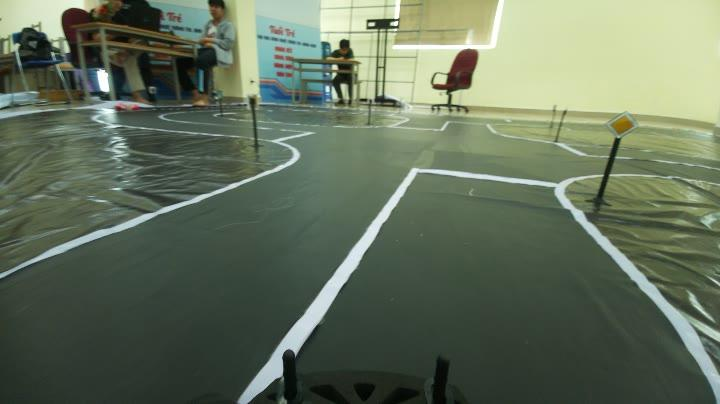priority: (598, 106, 642, 141)
